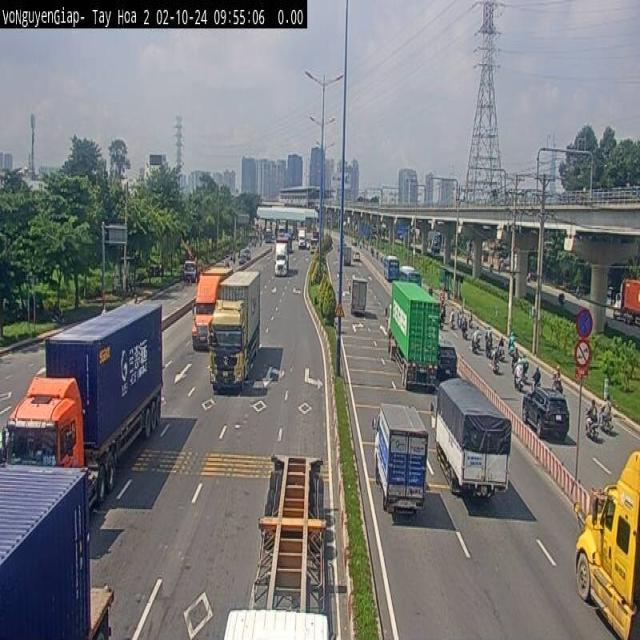container-truck: (0, 301, 169, 509), (0, 449, 135, 640), (222, 440, 348, 640), (573, 450, 639, 638), (207, 269, 261, 392)
truck: (431, 377, 512, 499), (371, 400, 429, 519)
